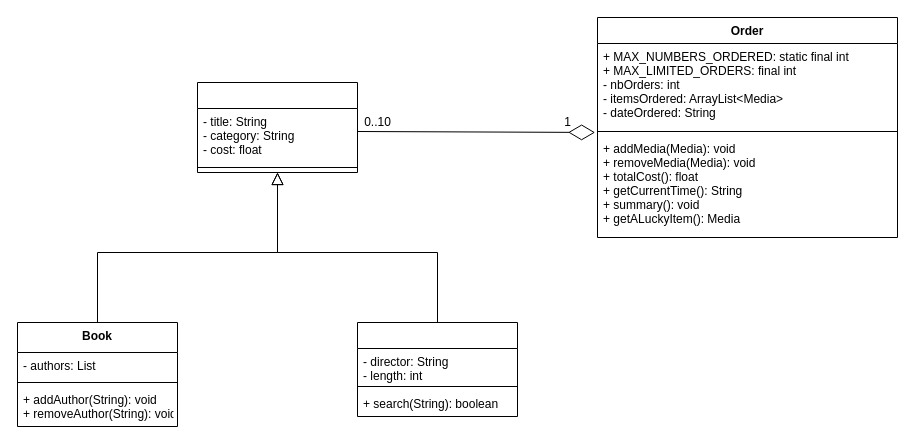
The diagram is 915 pixels wide and 447 high, and some of its shapes have lost their labels. The shapes that lost their labels are listed below. From the top down, each one's box as (x1, y1, x2, y2) in pixels, then its label:
(196, 82, 358, 172): Media
(356, 322, 518, 416): DigitalVideoDisc
